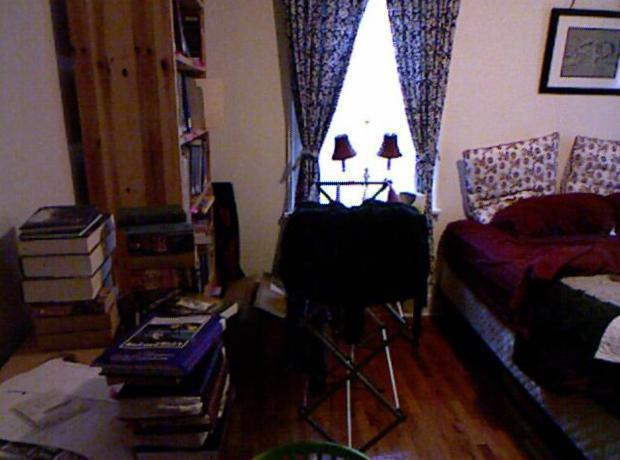Otro Obstaculo: (283, 176, 427, 457)
